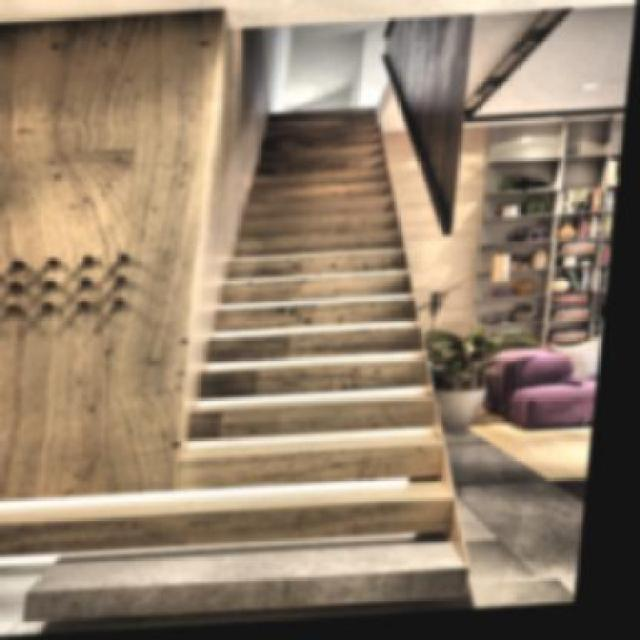stair: (57, 93, 526, 612)
